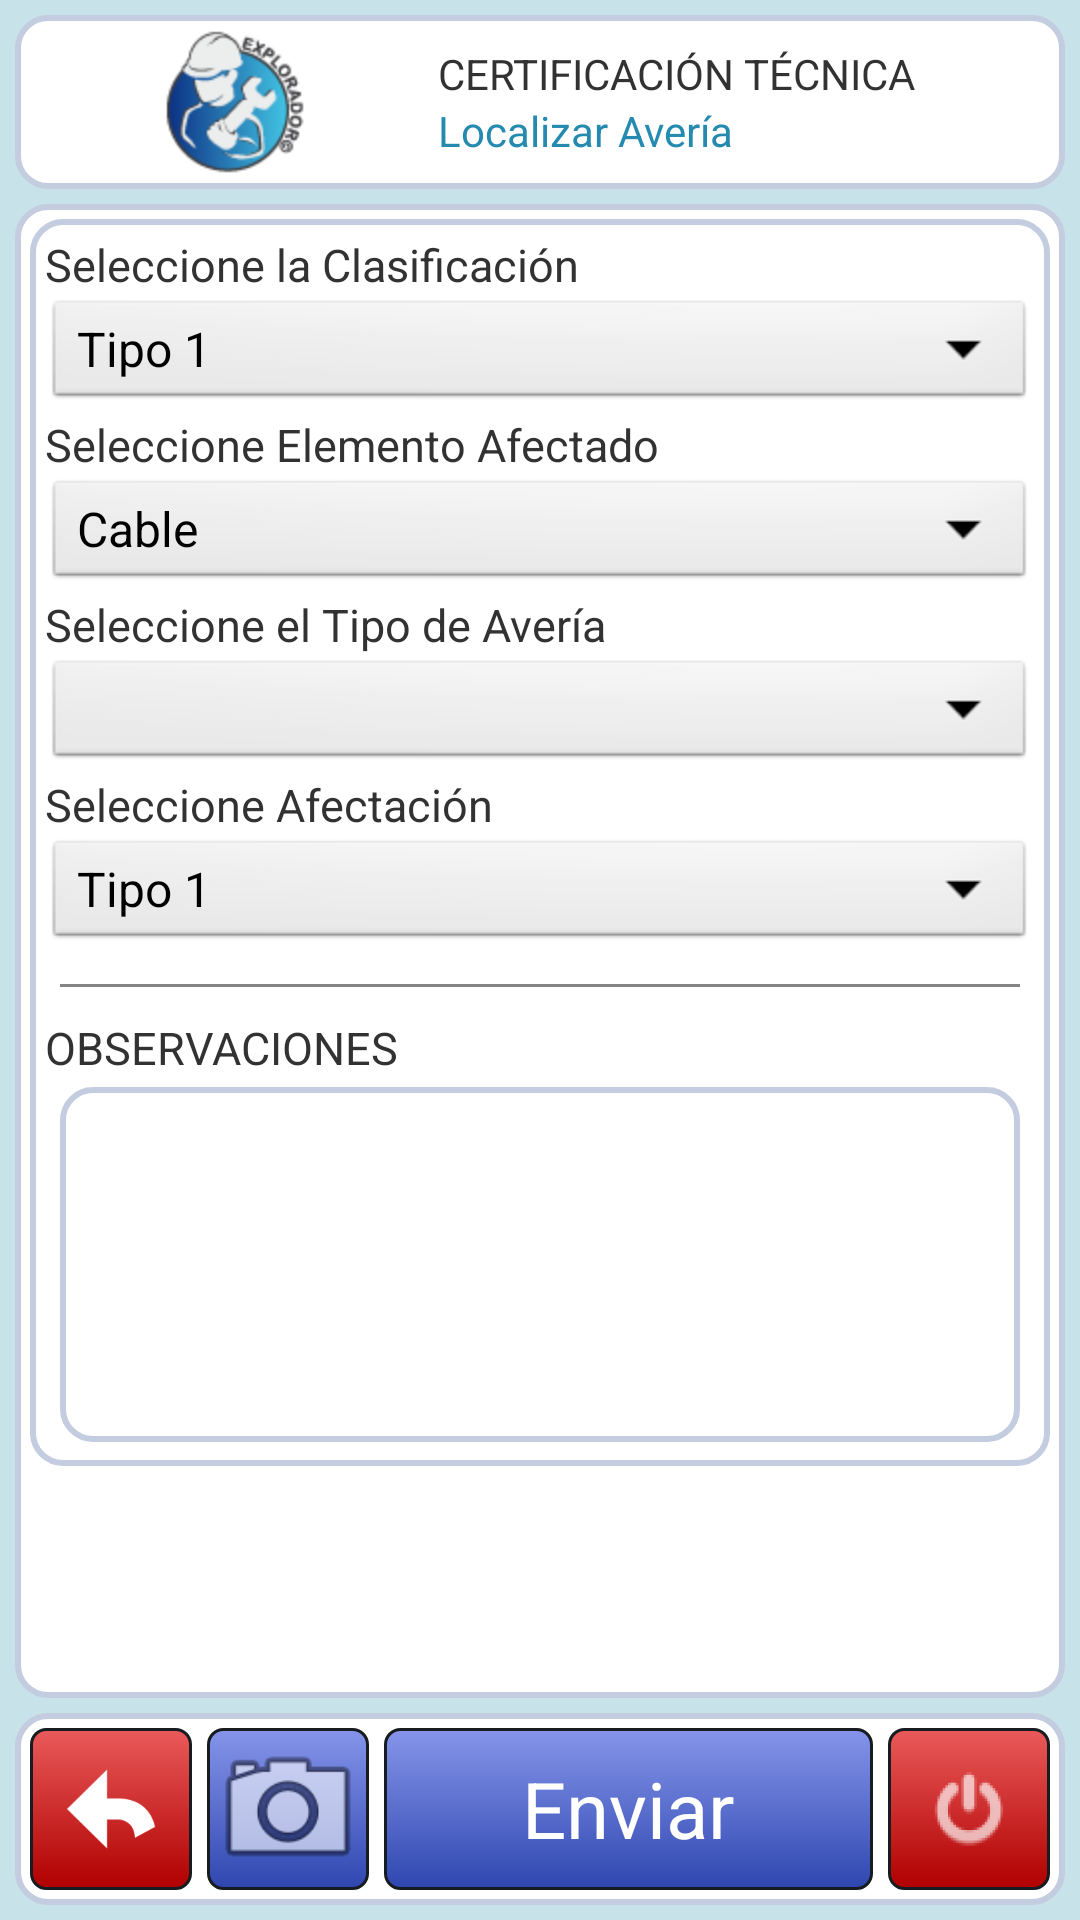

Locate icon controls on the screen. Image size 1080*1920, boxes as detection(x1, y1, x2, y2).
back: detection(30, 1728, 192, 1890)
shutdown: detection(888, 1728, 1050, 1890)
